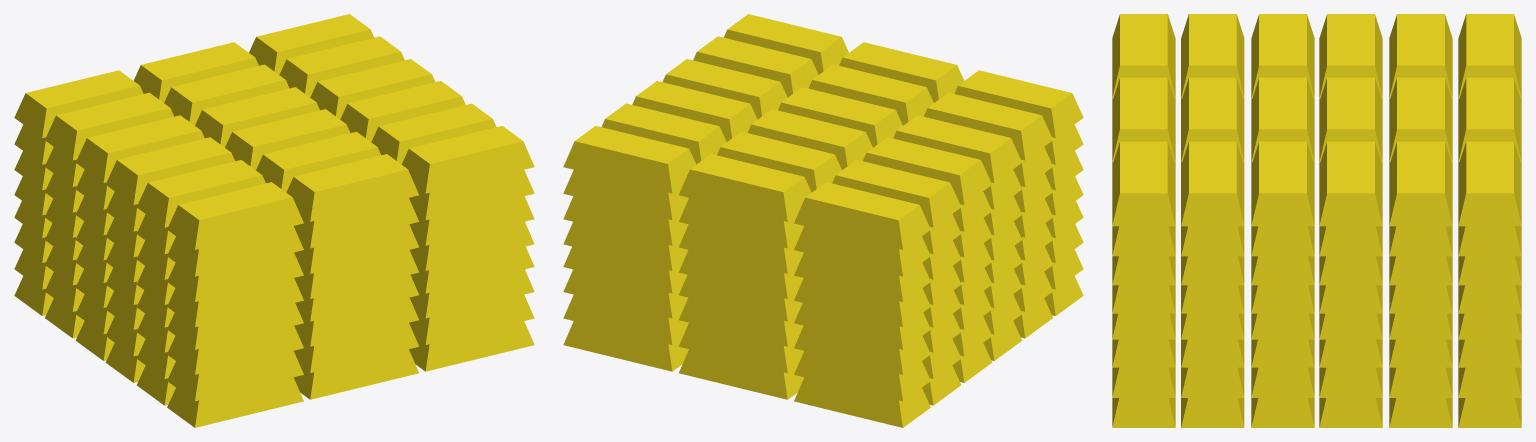
File: SM_Collection_07.fbx
3 renders of one model, left to right at view 1: azimuth 30°, elevation 25°; view 2: azimuth 150°, elevation 25°; view 3: azimuth 270°, elevation 25°, orthographic. The views are drawn at different scales.
Visible parts, largest first — view 1: SM_Gold_02; view 2: SM_Gold_02; view 3: SM_Gold_02.
Boxes of the visible parts, x1,y1,x2,y2 form: SM_Gold_02: (14,14,534,427); SM_Gold_02: (563,14,1083,427); SM_Gold_02: (1112,14,1521,427).
Size of the model in its own units: 129 by 73.92 by 119.
